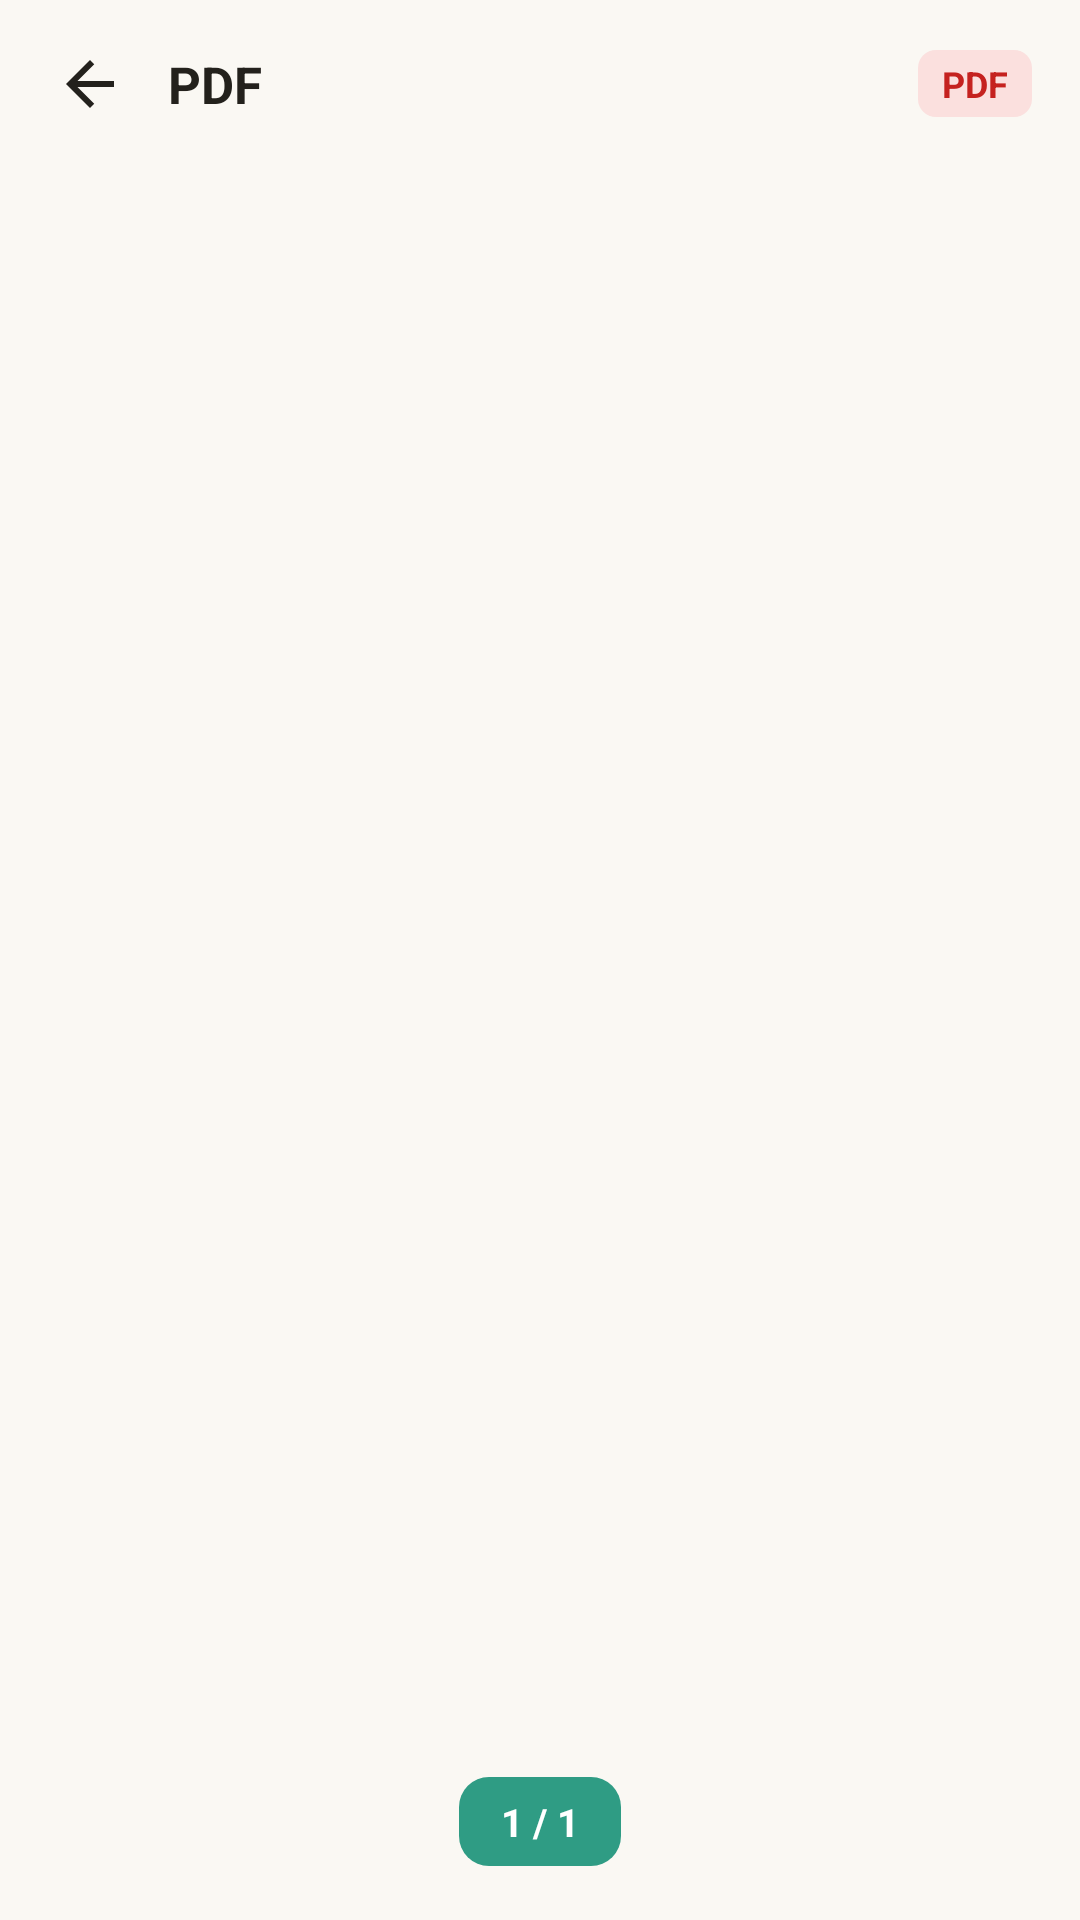

Named icons in this screenshot (1080×1920) and their centers, point (x, y):
返回: point (90, 84)
